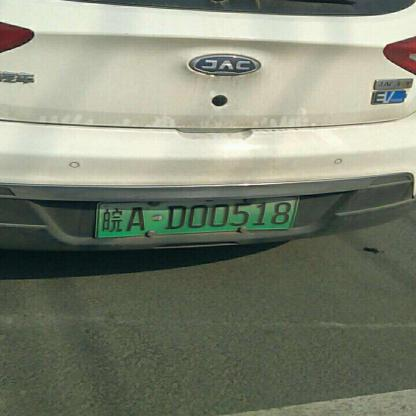lp: (97, 198, 298, 236)
